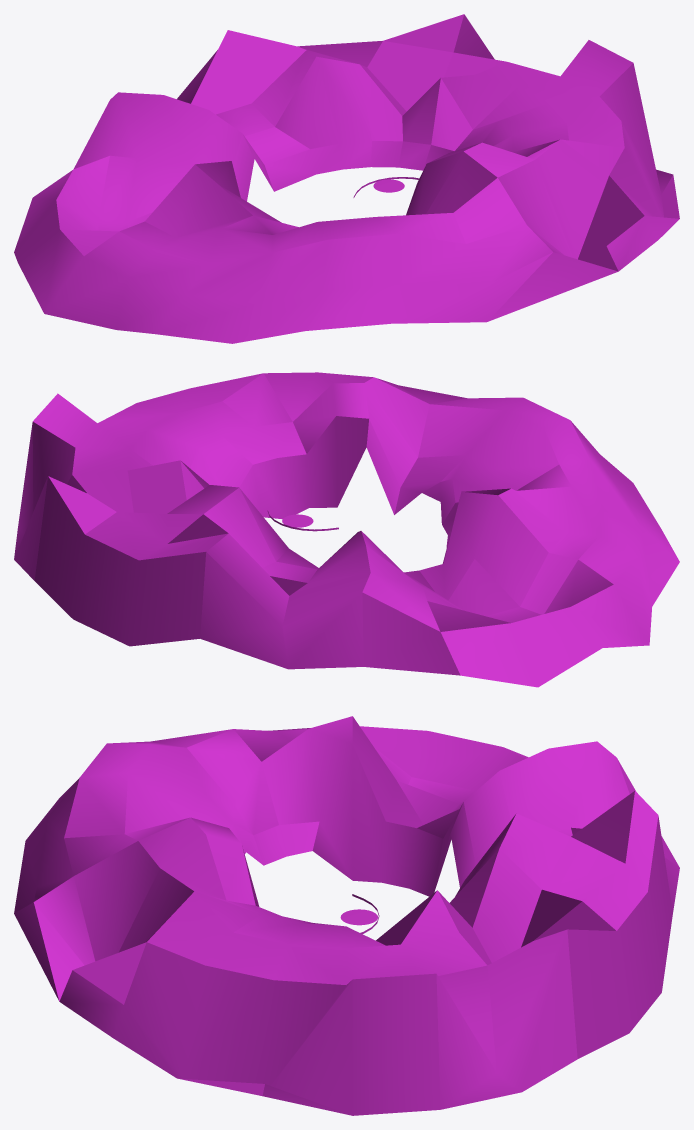
File: def_mesh.fbx
3 renders of one model, top to bottom at view 1: azimuth 30°, elevation 25°; view 2: azimuth 150°, elevation 25°; view 3: azimuth 270°, elevation 25°, orthographic. The views are drawn at different scales.
Visible parts, largest first — view 1: nuke ground mesh 2; view 2: nuke ground mesh 2; view 3: nuke ground mesh 2.
Part boxes in pixels (box(x1,y1,x2,y2)): nuke ground mesh 2: box(14, 14, 679, 343); nuke ground mesh 2: box(14, 372, 679, 687); nuke ground mesh 2: box(14, 716, 679, 1115).
Bounding box in the file's own units: 110857 × 22470 × 88479.
